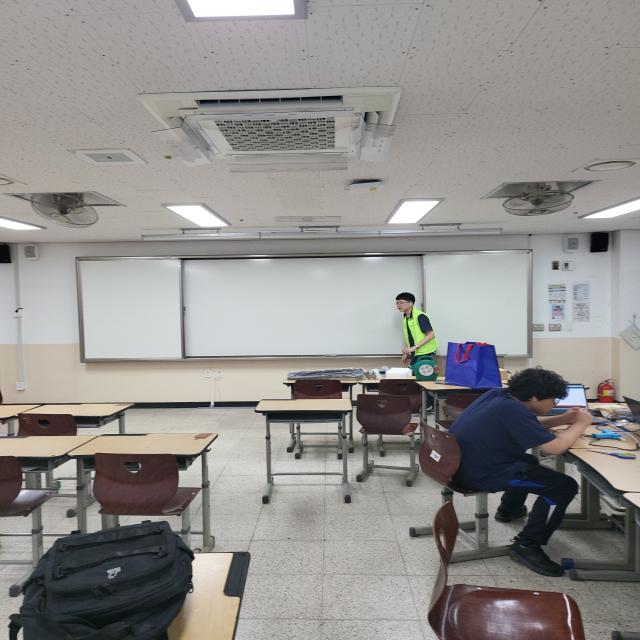weston_spy: (397, 308, 439, 358)
